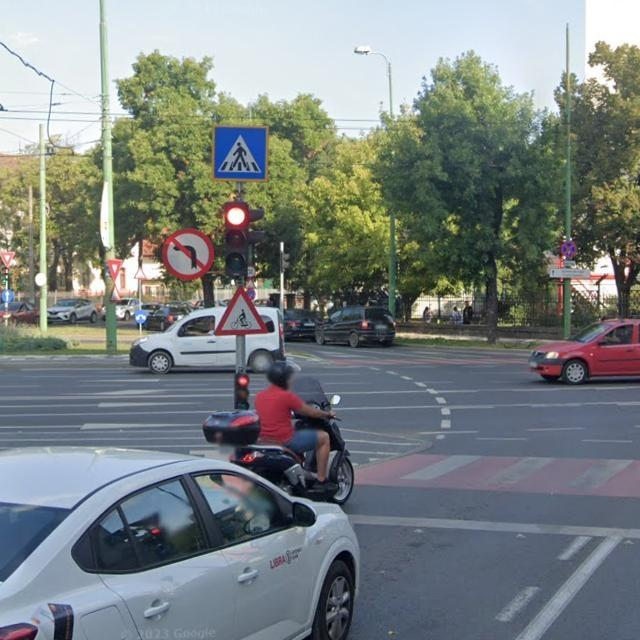forb_waiting: (561, 241, 577, 258)
info_crosswalk: (211, 124, 269, 181)
prio_give_way: (108, 260, 123, 281), (0, 252, 16, 268)
